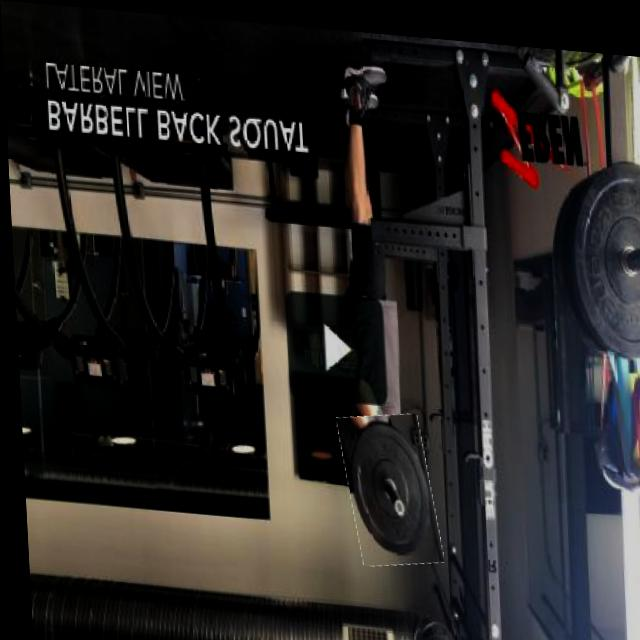barbell: (338, 404, 435, 563)
